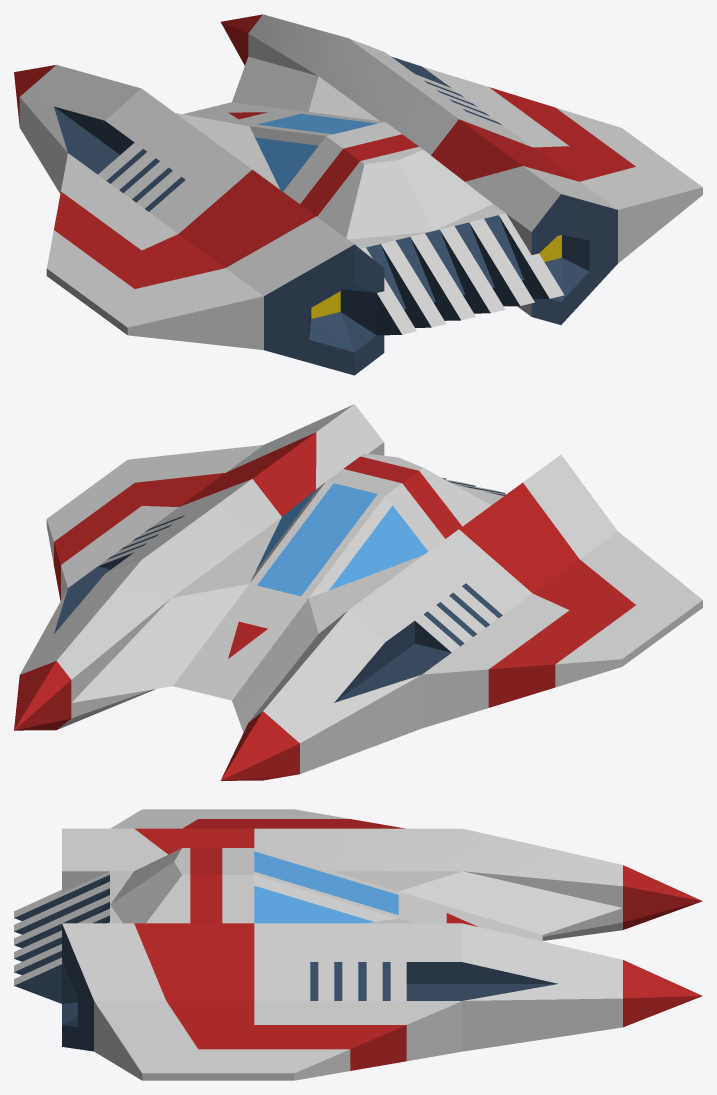
File: fighter.dae
3 renders of one model, top to bottom at view 1: azimuth 30°, elevation 25°; view 2: azimuth 150°, elevation 25°; view 3: azimuth 270°, elevation 25°, orthographic. The views are drawn at different scales.
Visible parts, largest first — view 1: Fighter1; view 2: Fighter1; view 3: Fighter1.
Part boxes in pixels (left/top/right/bottom): Fighter1: left=14, top=14, right=702, bottom=375; Fighter1: left=14, top=404, right=702, bottom=780; Fighter1: left=14, top=809, right=702, bottom=1080.
Size of the model in its own units: 7.8 by 2 by 8.6.
